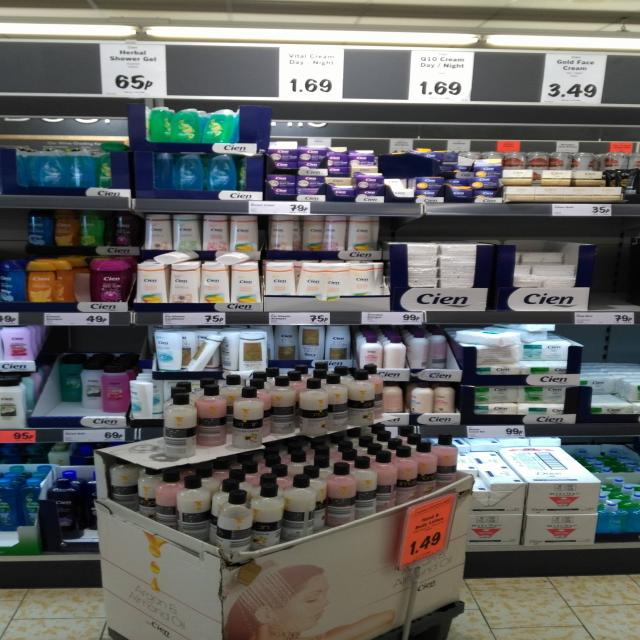void: (583, 216, 640, 311)
